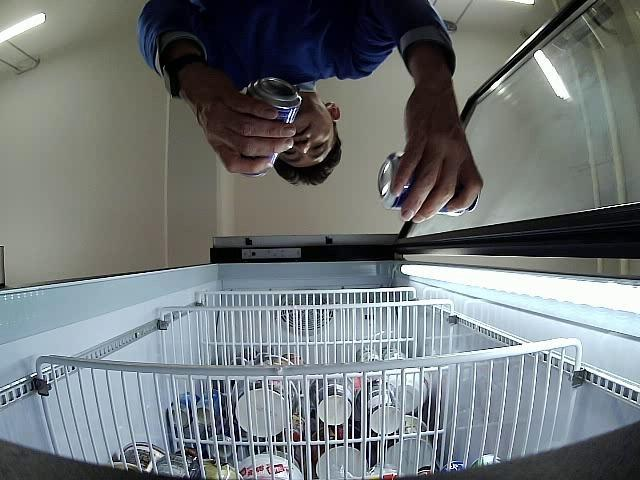14_welchsGrape: (378, 153, 478, 217), (242, 77, 302, 178)
